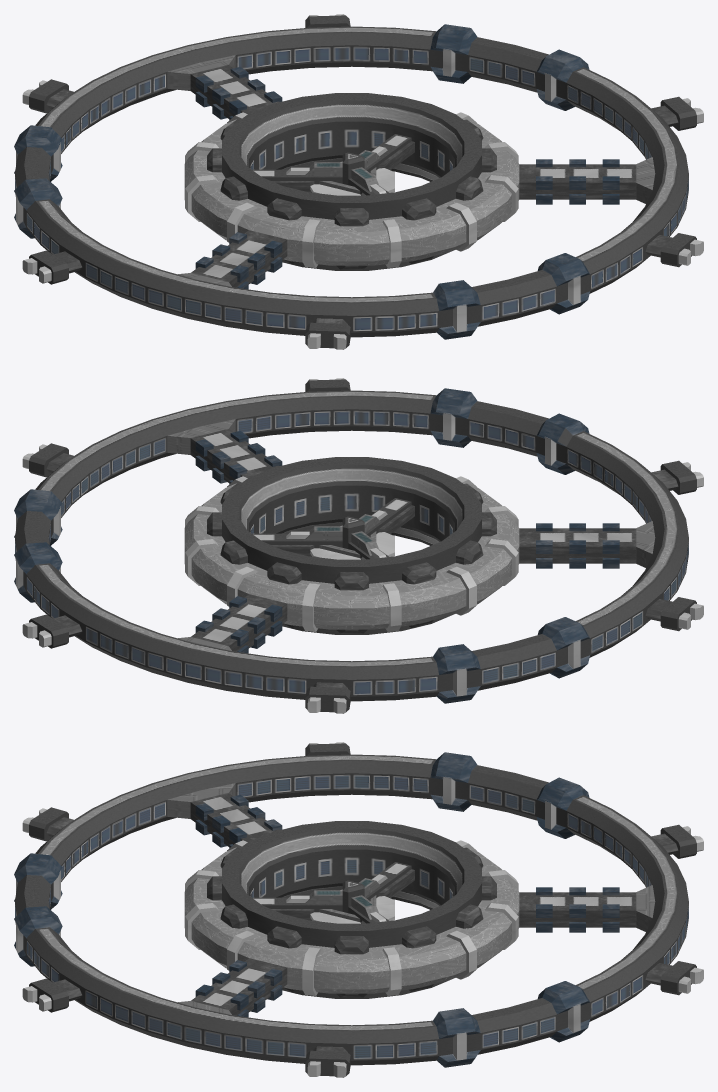
The model's file is station01.glb.
3 views of the same model, one above another, from view 1: azimuth 30°, elevation 25°; view 2: azimuth 150°, elevation 25°; view 3: azimuth 270°, elevation 25° (orthographic).
Visible parts, largest first — view 1: Mesh_LP_cube1_default.001; view 2: Mesh_LP_cube1_default.001; view 3: Mesh_LP_cube1_default.001.
Boxes of the visible parts, x1=… form: Mesh_LP_cube1_default.001: x1=14, y1=14, x2=703, y2=349; Mesh_LP_cube1_default.001: x1=14, y1=378, x2=703, y2=713; Mesh_LP_cube1_default.001: x1=14, y1=742, x2=703, y2=1077.
Bounding box in the file's own units: 20.48 × 2 × 18.42.
1 material, 1 textured.
